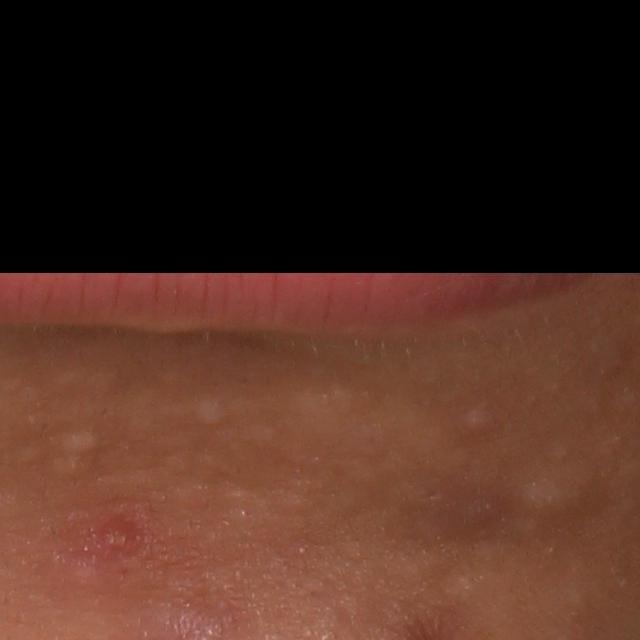comedo: (462, 402, 496, 440)
hypertrophic_scar: (242, 383, 403, 477), (505, 464, 602, 519), (101, 383, 192, 433), (270, 472, 333, 519), (51, 358, 130, 390), (163, 472, 222, 514), (44, 452, 99, 479), (55, 429, 108, 454), (195, 393, 229, 426)
papule: (86, 509, 162, 568)
